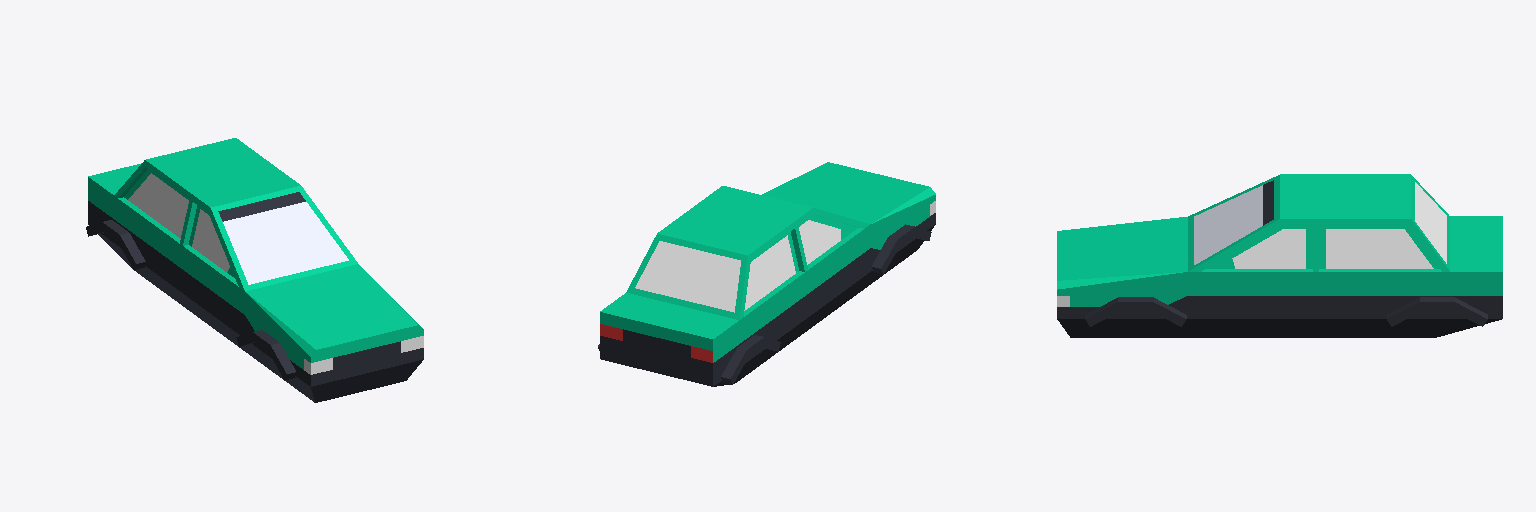
The model's file is Car.obj.
3 views of the same model, side by side, from view 1: azimuth 30°, elevation 25°; view 2: azimuth 150°, elevation 25°; view 3: azimuth 270°, elevation 25° (orthographic).
Parts seen in each view (by area): view 1: mergedBlocks; view 2: mergedBlocks; view 3: mergedBlocks.
Boxes of the visible parts, x1=… form: mergedBlocks: x1=86, y1=138, x2=423, y2=402; mergedBlocks: x1=598, y1=162, x2=935, y2=386; mergedBlocks: x1=1057, y1=174, x2=1502, y2=337.
Size of the model in its own units: 1.17 by 1 by 3.4.